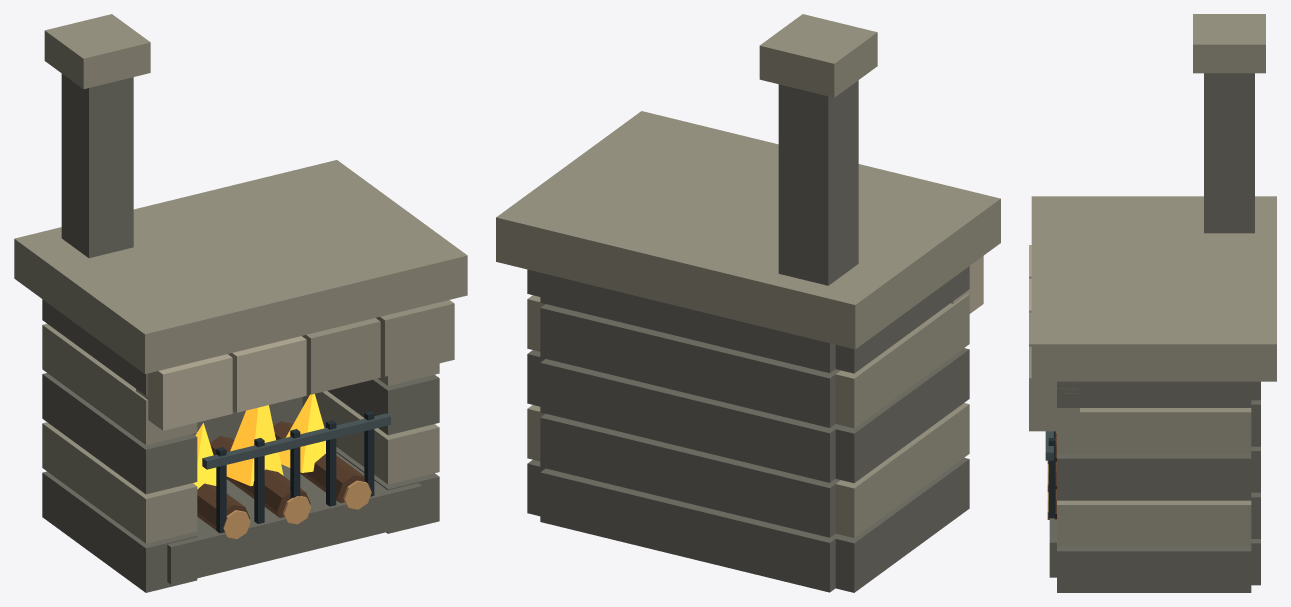
File: reused_stove_firebox.glb
The picture shows the model from 3 angles, left to right: view 1: azimuth 30°, elevation 25°; view 2: azimuth 150°, elevation 25°; view 3: azimuth 270°, elevation 25°; orthographic projection. The views are drawn at different scales.
Parts seen in each view (by area): view 1: reused_stove_firebox_Farm_stone, reused_stove_firebox_Farm_stone_dark, reused_stove_firebox_Farm_stone2, reused_stove_firebox_Farm_fire, reused_stove_firebox_Farm_wood_dark.001, reused_stove_firebox_Farm_dark.001, reused_stove_firebox_Farm_metal.001, reused_stove_firebox_Farm_endgrain; view 2: reused_stove_firebox_Farm_stone_dark, reused_stove_firebox_Farm_stone, reused_stove_firebox_Farm_stone2; view 3: reused_stove_firebox_Farm_stone, reused_stove_firebox_Farm_stone_dark, reused_stove_firebox_Farm_dark.001.
Part boxes in pixels (x1,y1,x2,y2): reused_stove_firebox_Farm_stone: (14, 14, 467, 543); reused_stove_firebox_Farm_stone_dark: (42, 73, 439, 592); reused_stove_firebox_Farm_stone2: (136, 336, 306, 430); reused_stove_firebox_Farm_fire: (193, 394, 325, 489); reused_stove_firebox_Farm_wood_dark.001: (197, 421, 364, 529); reused_stove_firebox_Farm_dark.001: (216, 411, 374, 533); reused_stove_firebox_Farm_metal.001: (202, 413, 390, 469); reused_stove_firebox_Farm_endgrain: (223, 480, 371, 538); reused_stove_firebox_Farm_stone_dark: (527, 80, 969, 592); reused_stove_firebox_Farm_stone: (496, 14, 1000, 537); reused_stove_firebox_Farm_stone2: (951, 256, 983, 313); reused_stove_firebox_Farm_stone: (1029, 14, 1276, 546); reused_stove_firebox_Farm_stone_dark: (1049, 73, 1260, 592); reused_stove_firebox_Farm_dark.001: (1048, 431, 1055, 518).
Bounding box in the file's own units: 1.44 × 2.04 × 1.02.
